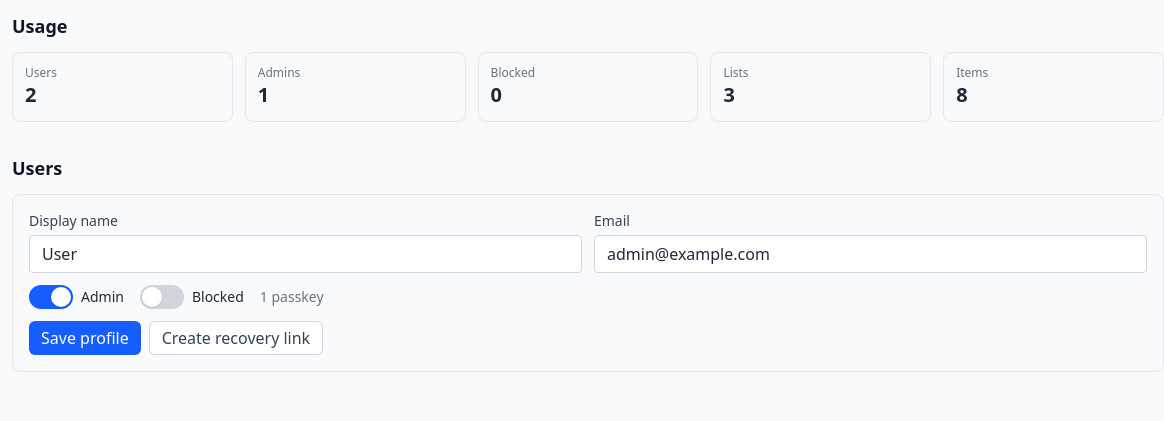
admin page › shows the backend message when an admin tries to block itself
Click the switch named "Blocked admin@example.com": (162, 297) [140,285,184,309]
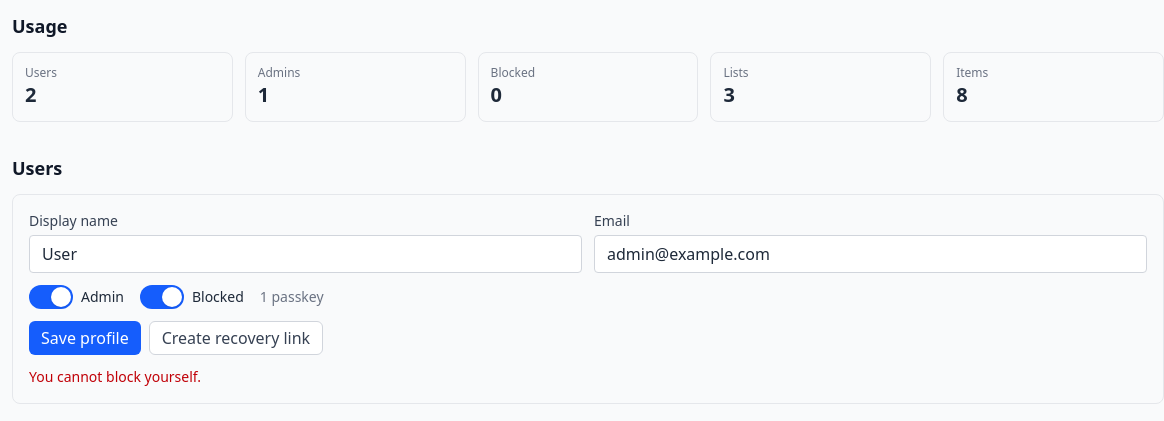
Expected: the text "You cannot block yourself." is shown, [29,367,201,386]
